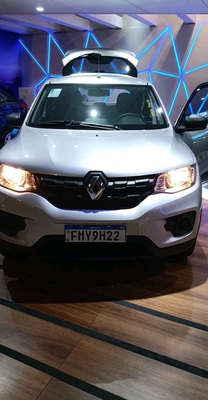Frontal Veiculo: (1, 78, 202, 260)
